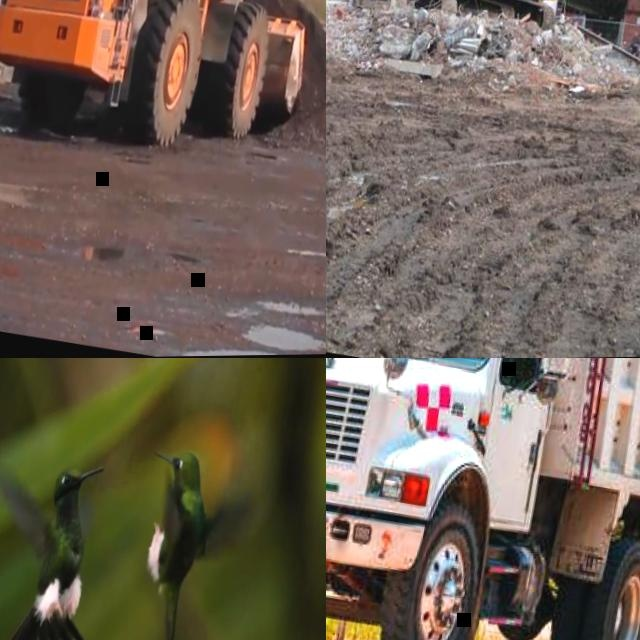NO-Safety Vest: (632, 40, 640, 52)
Person: (628, 33, 640, 57)
machinery: (326, 358, 640, 640), (0, 0, 326, 177)
